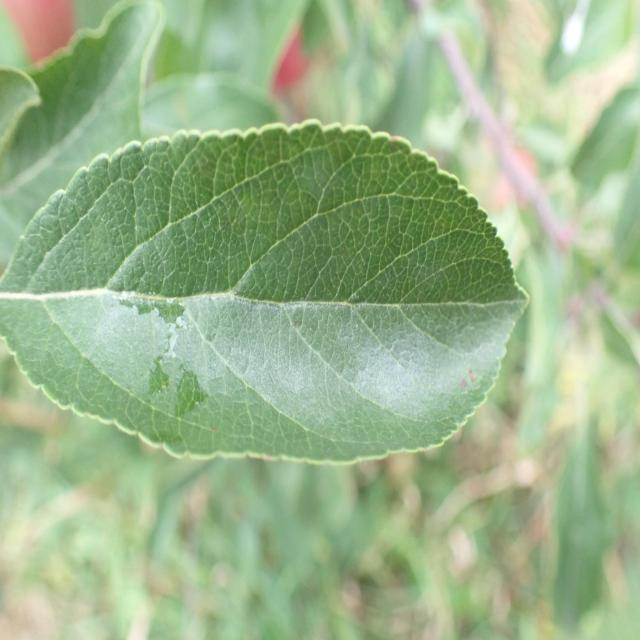Powdery_mildew: (22, 139, 515, 451)
